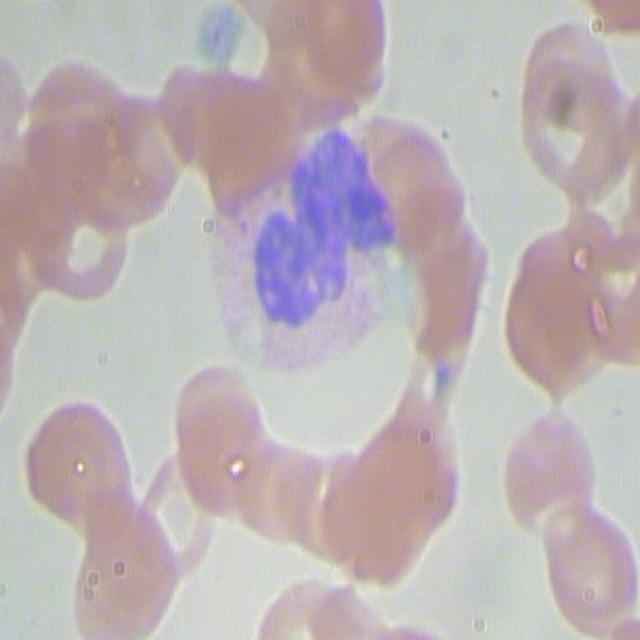RBC: (146, 35, 288, 208), (26, 62, 174, 226), (510, 222, 640, 401), (358, 96, 467, 284), (338, 404, 450, 581), (57, 502, 193, 640), (249, 432, 388, 564), (15, 393, 144, 535), (400, 293, 498, 453), (172, 368, 263, 492), (26, 202, 134, 306), (501, 432, 596, 542), (548, 516, 628, 630)
WBC: (222, 132, 390, 347)
platelets: (194, 8, 253, 64)
